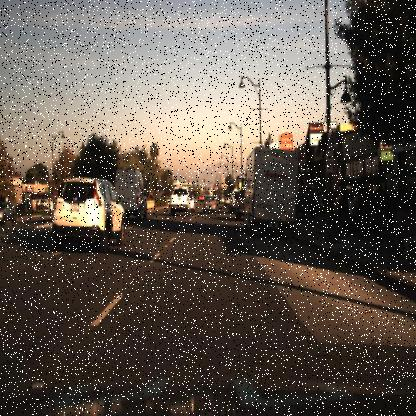car: (242, 136, 299, 247), (51, 178, 127, 254), (112, 161, 145, 231), (165, 188, 192, 219), (198, 198, 216, 218)
truck: (240, 145, 304, 248), (106, 168, 150, 226)
